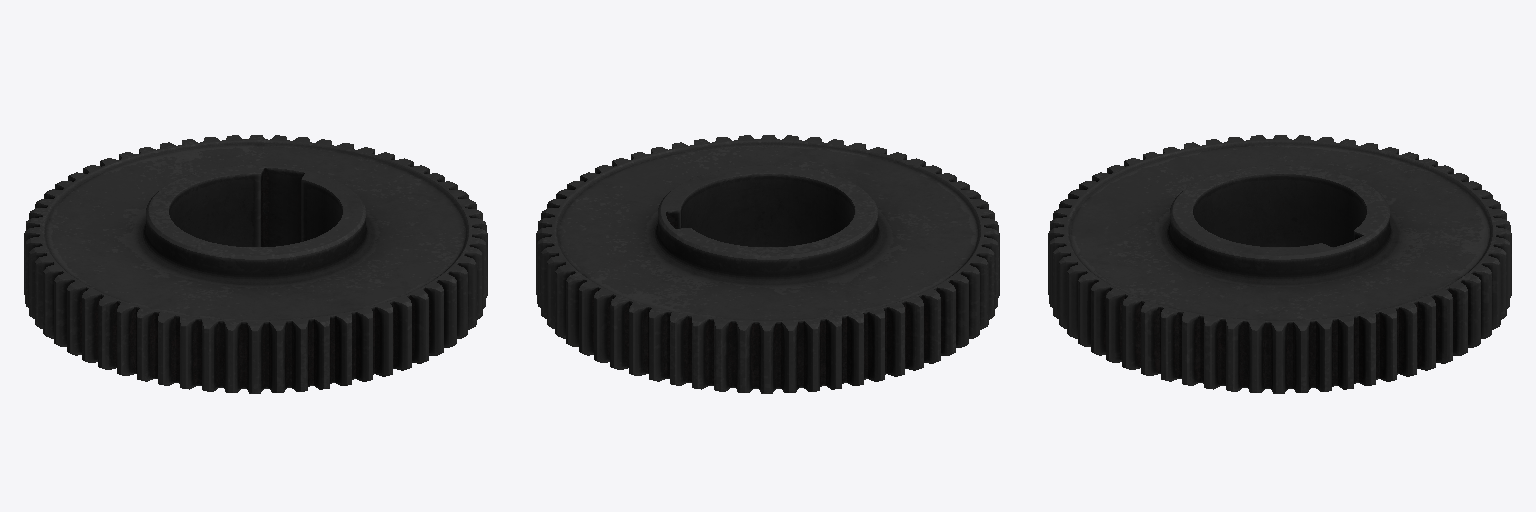
3 views of the same model, side by side, from view 1: azimuth 30°, elevation 25°; view 2: azimuth 150°, elevation 25°; view 3: azimuth 270°, elevation 25° (orthographic).
Visible parts, largest first — view 1: Gear2; view 2: Gear2; view 3: Gear2.
Part boxes in pixels (x1,y1,x2,y2): Gear2: (24,135,487,393); Gear2: (536,135,999,393); Gear2: (1048,135,1511,393).
Size of the model in its own units: 18.14 by 3.93 by 18.14.
1 materials, 1 textured.